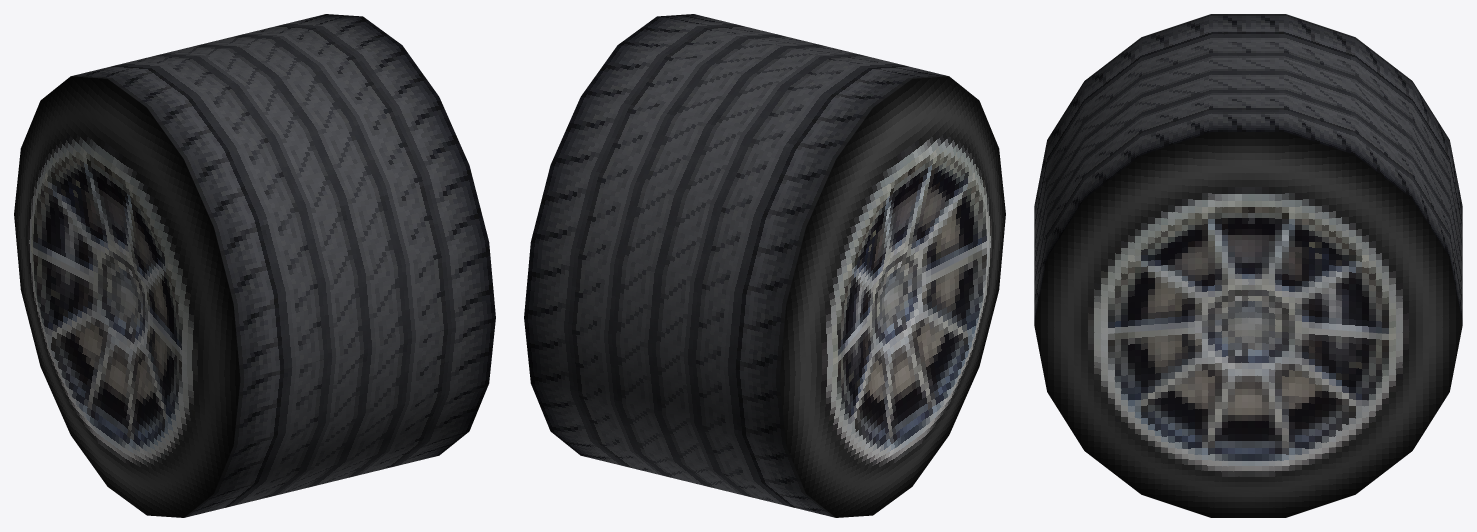
The model's file is wheel.fbx.
The picture shows the model from 3 angles, left to right: view 1: azimuth 30°, elevation 25°; view 2: azimuth 150°, elevation 25°; view 3: azimuth 270°, elevation 25°; orthographic projection. The views are drawn at different scales.
Visible parts, largest first — view 1: Wheel1:tyre, wheel; view 2: Wheel1:tyre, wheel; view 3: wheel, Wheel1:tyre.
Boxes of the visible parts, box(x1,y1,x2,y2) form: Wheel1:tyre: box(71, 14, 495, 517); wheel: box(14, 76, 240, 517); Wheel1:tyre: box(524, 14, 948, 517); wheel: box(779, 76, 1005, 517); wheel: box(1034, 132, 1462, 517); Wheel1:tyre: box(1034, 14, 1462, 323).
Size of the model in its own units: 0.492 by 0.65 by 0.654.
